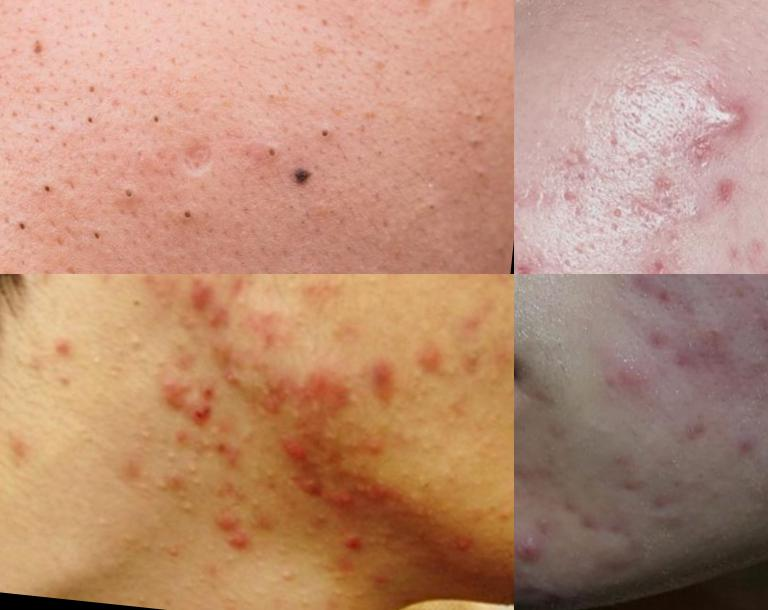acne_scars: (543, 180, 592, 220), (181, 125, 216, 180), (640, 166, 674, 213), (709, 172, 750, 209), (632, 249, 678, 275), (330, 1, 375, 22), (515, 251, 542, 275)
blackhead: (458, 103, 505, 190), (408, 186, 450, 241), (242, 130, 287, 174), (306, 111, 349, 155), (135, 103, 179, 140), (1, 209, 39, 247), (106, 173, 143, 212), (175, 195, 208, 237), (22, 171, 63, 203), (266, 252, 309, 275), (76, 223, 110, 251), (403, 1, 440, 19)
papular: (680, 91, 760, 150), (194, 512, 255, 577), (515, 525, 573, 581), (278, 431, 330, 479), (360, 357, 405, 407), (190, 387, 221, 441), (328, 524, 369, 562), (325, 486, 363, 525), (180, 275, 219, 310), (412, 341, 441, 377), (157, 379, 188, 410)
whitehead: (669, 186, 720, 243), (119, 331, 160, 371), (77, 506, 116, 542), (405, 434, 441, 467), (167, 496, 203, 524), (86, 347, 110, 388), (232, 427, 266, 454), (159, 444, 190, 472), (128, 421, 160, 447), (245, 495, 276, 520), (274, 568, 303, 592)
